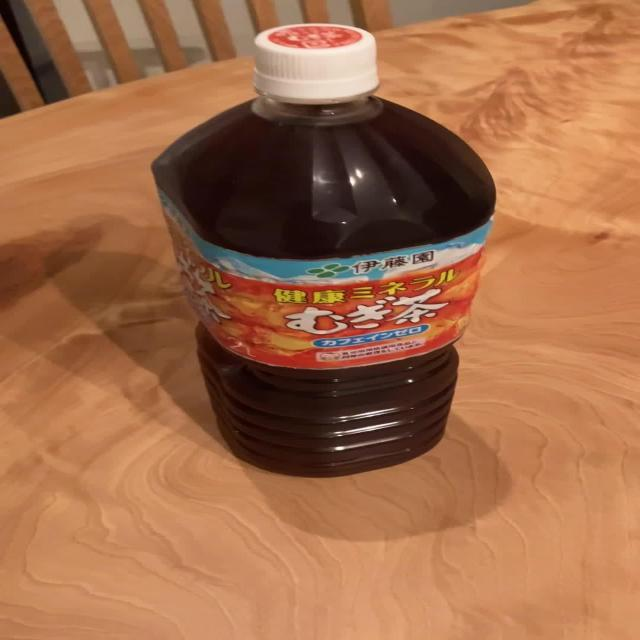good: (150, 22, 500, 481)
